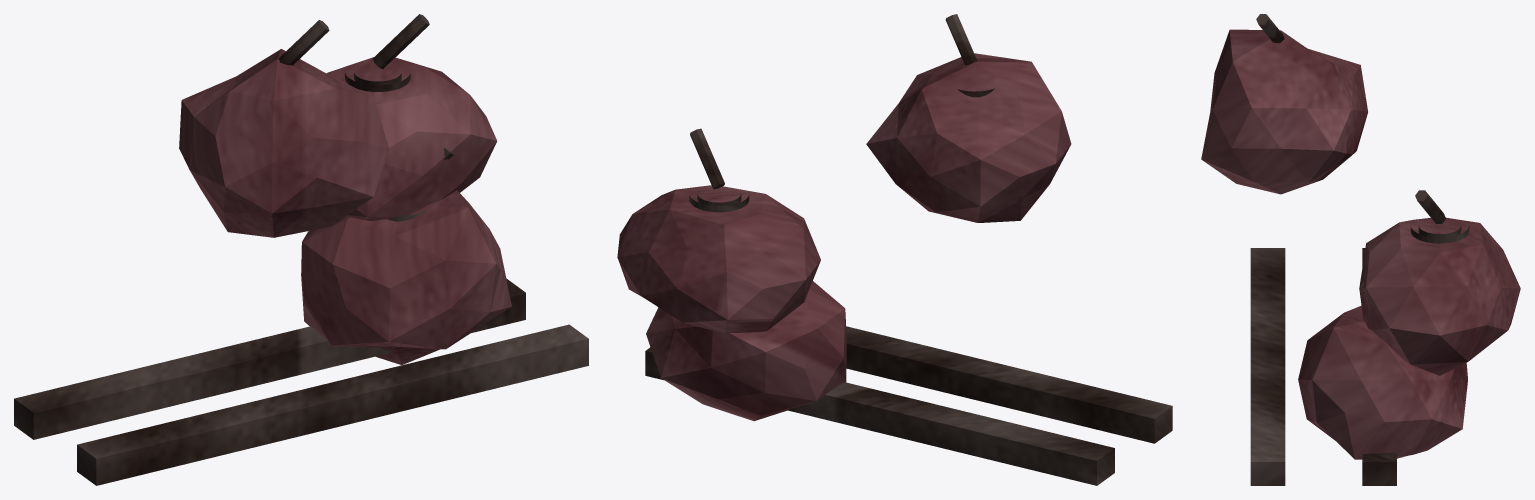
File: 0814_sack_stack_14.glb
The picture shows the model from 3 angles, left to right: view 1: azimuth 30°, elevation 25°; view 2: azimuth 150°, elevation 25°; view 3: azimuth 270°, elevation 25°; orthographic projection. The views are drawn at different scales.
Visible parts, largest first — view 1: cloth, wood_dark; view 2: cloth, wood_dark; view 3: cloth, wood_dark.
Boxes of the visible parts, x1,y1,x2,y2 form: cloth: [179, 49, 511, 365]; wood_dark: [14, 14, 588, 485]; cloth: [617, 53, 1071, 421]; wood_dark: [645, 14, 1172, 485]; cloth: [1201, 29, 1520, 459]; wood_dark: [1250, 14, 1469, 485].
Bounding box in the file's own units: 1.91 × 1.59 × 1.2.
2 materials, 2 textured.
